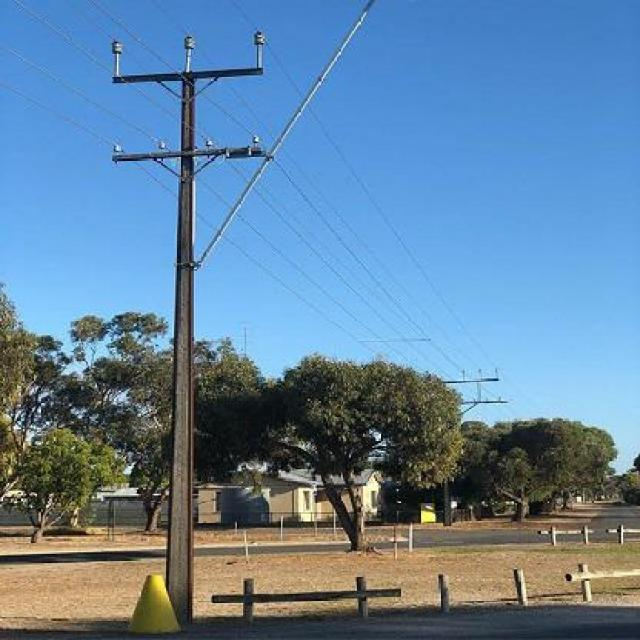pole: (103, 26, 275, 629)
